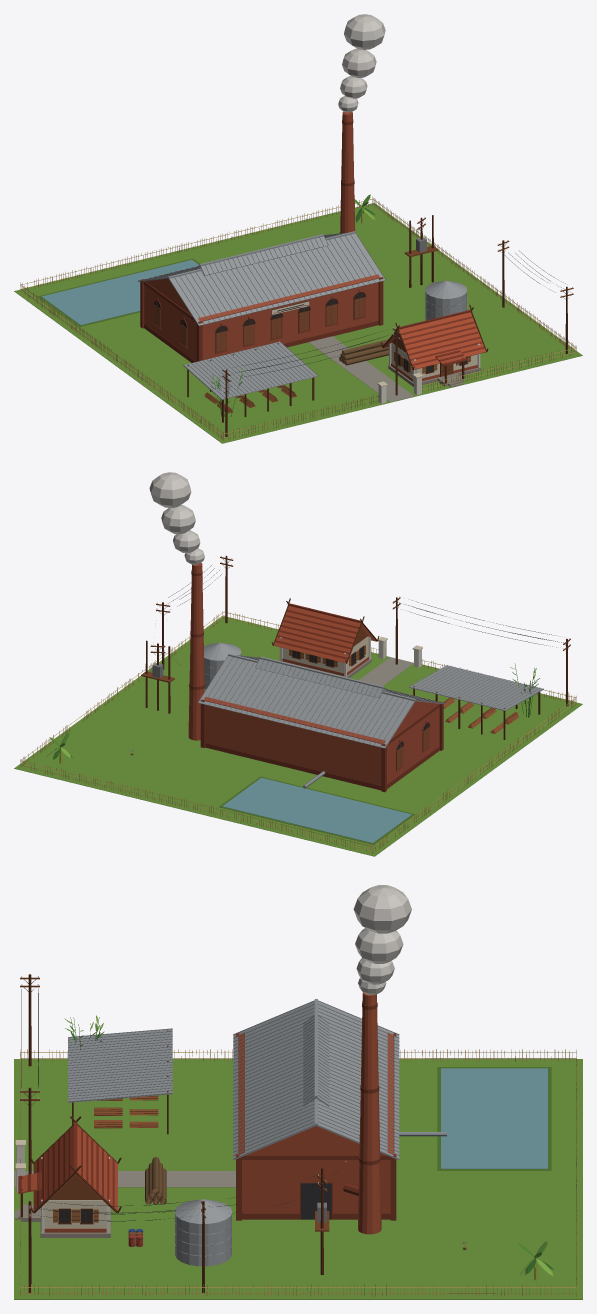
File: power_plant.glb
3 views of the same model, one above another, from view 1: azimuth 30°, elevation 25°; view 2: azimuth 150°, elevation 25°; view 3: azimuth 270°, elevation 25° (orthographic). The views are drawn at different scales.
Parts seen in each view (by area): view 1: body, windows; view 2: body; view 3: body.
Boxes of the visible parts, x1=… form: body: x1=14, y1=14, x2=582, y2=443; windows: x1=154, y1=292, x2=466, y2=372; body: x1=14, y1=472, x2=582, y2=856; body: x1=14, y1=885, x2=582, y2=1299.
Size of the model in its own units: 47.9 by 33.32 by 47.9.
